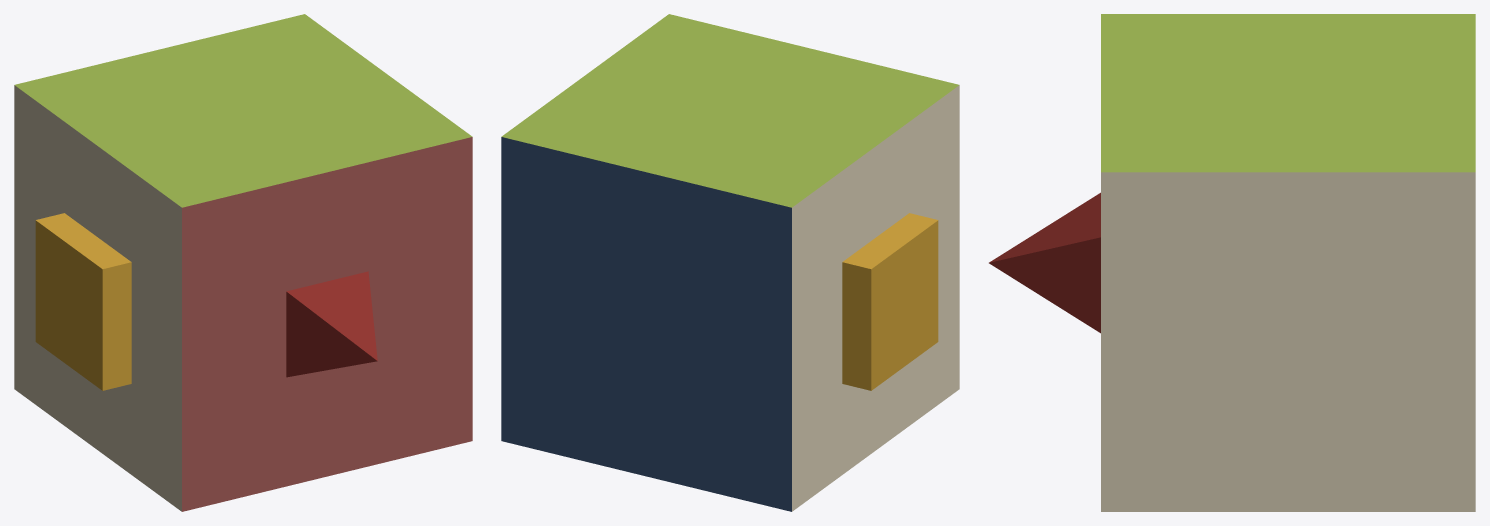
File: SM_Test_AxisCube.fbx
The picture shows the model from 3 angles, left to right: view 1: azimuth 30°, elevation 25°; view 2: azimuth 150°, elevation 25°; view 3: azimuth 270°, elevation 25°; orthographic projection. The views are drawn at different scales.
Visible parts, largest first — view 1: SM_Test_AxisCube; view 2: SM_Test_AxisCube; view 3: SM_Test_AxisCube.
Boxes of the visible parts, box(x1,y1,x2,y2) form: SM_Test_AxisCube: box(14, 14, 472, 511); SM_Test_AxisCube: box(501, 14, 959, 511); SM_Test_AxisCube: box(989, 14, 1475, 511).
Bounding box in the file's own units: 1.1 × 1 × 1.3.
